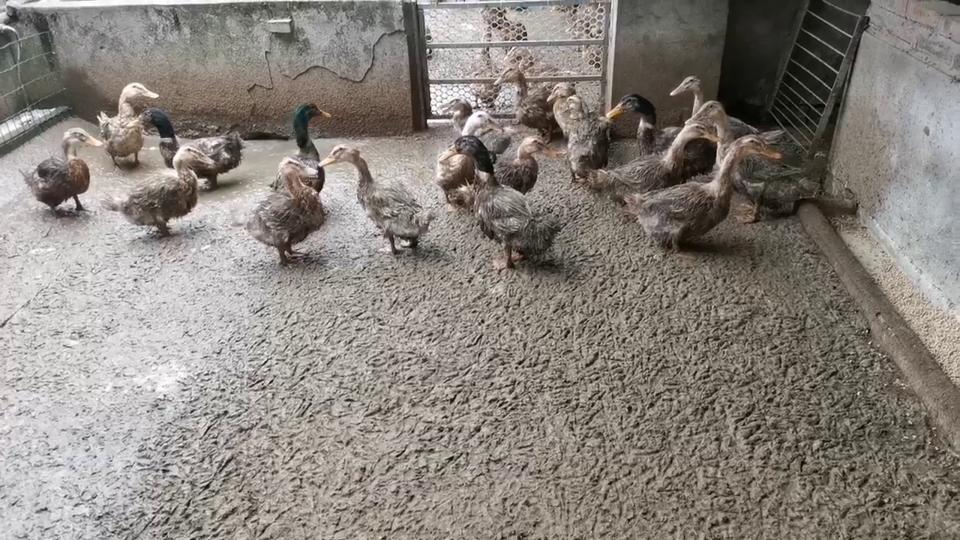duck: (639, 132, 783, 254), (455, 136, 568, 273), (701, 104, 823, 221), (326, 147, 439, 256), (114, 149, 218, 245), (249, 158, 334, 268), (134, 111, 242, 194), (606, 88, 710, 171), (620, 118, 724, 184), (28, 127, 99, 221), (500, 64, 582, 141), (553, 94, 620, 184), (284, 100, 335, 209), (99, 81, 157, 171), (499, 132, 563, 190), (471, 23, 505, 110), (662, 68, 712, 118), (429, 94, 489, 135), (532, 78, 577, 132), (501, 46, 571, 78), (563, 19, 605, 71), (478, 7, 532, 44), (459, 109, 508, 147)
